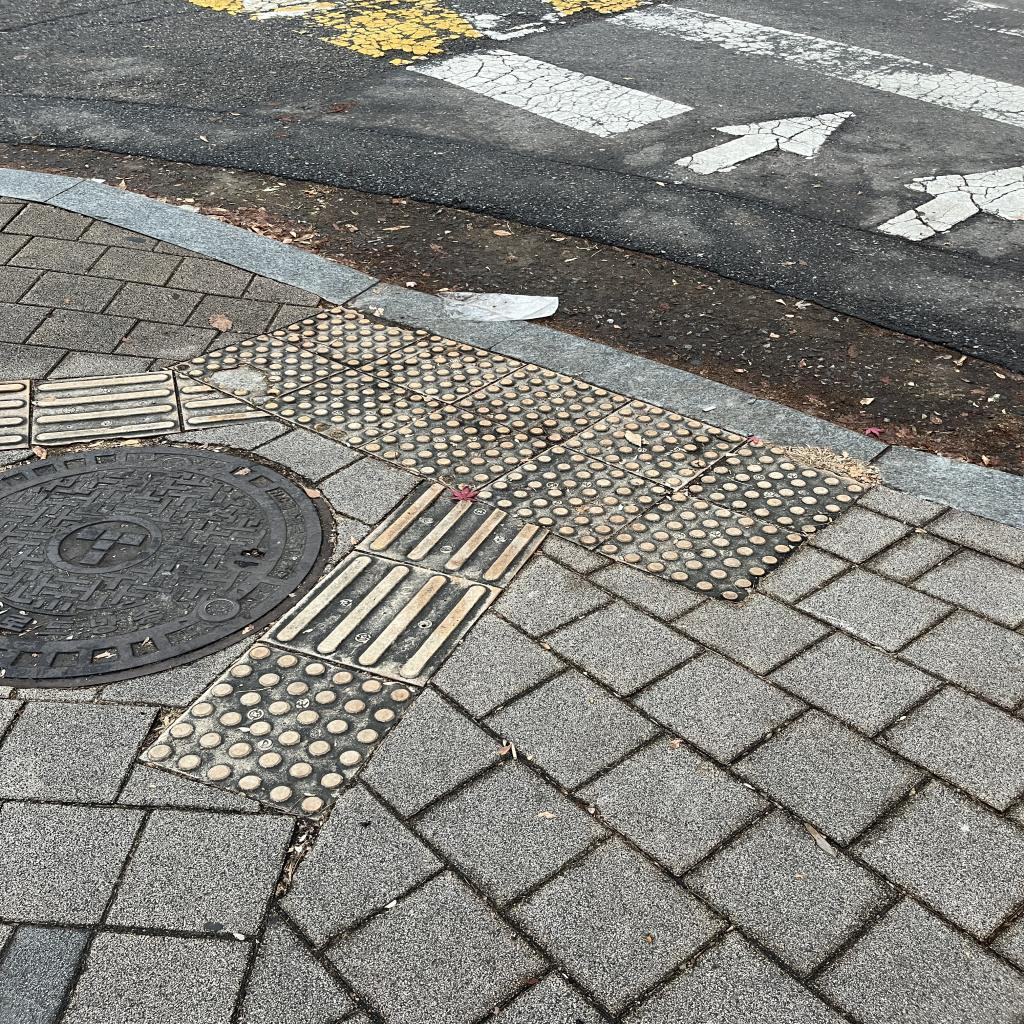Stop block broken: (170, 305, 348, 429)
Stop block normal: (596, 474, 804, 617), (470, 423, 668, 566)
